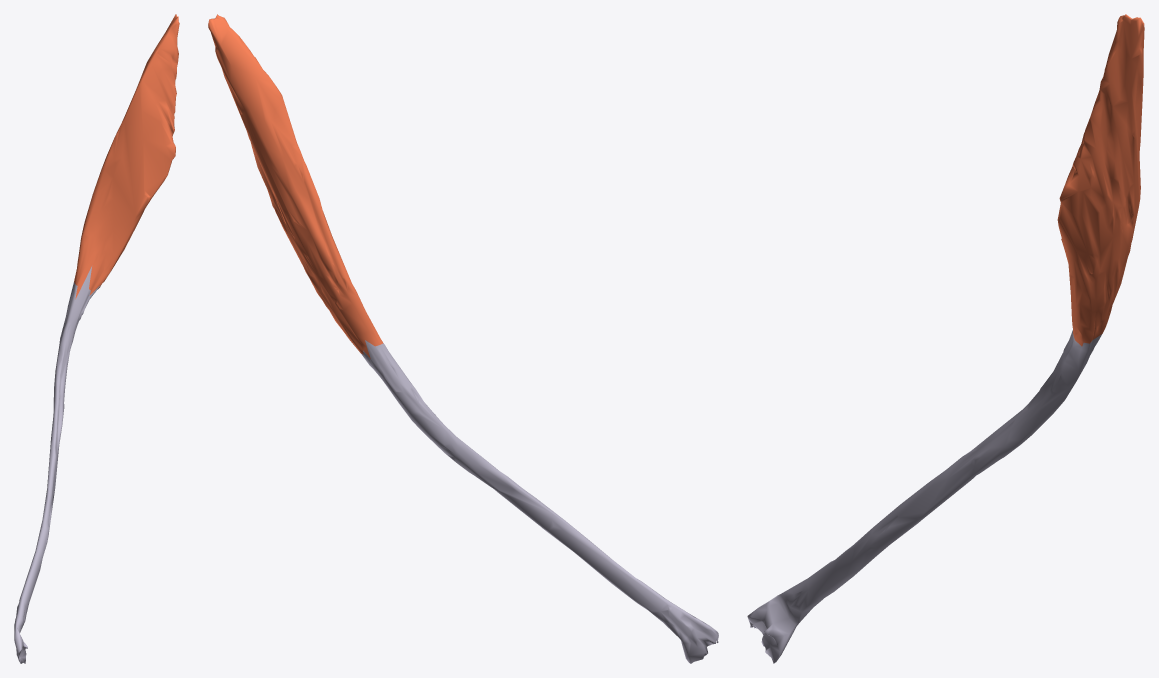
The model's file is Extensor_pollicis_brevis.r_Generated_Mesh_From_X3D.964.glb.
The picture shows the model from 3 angles, left to right: view 1: azimuth 30°, elevation 25°; view 2: azimuth 150°, elevation 25°; view 3: azimuth 270°, elevation 25°; orthographic projection. The views are drawn at different scales.
Parts seen in each view (by area): view 1: Extensor_pollicis_brevis.r_Generated_Mesh_From_X3D.964; view 2: Extensor_pollicis_brevis.r_Generated_Mesh_From_X3D.964; view 3: Extensor_pollicis_brevis.r_Generated_Mesh_From_X3D.964.
Boxes of the visible parts, left/top/right/bottom form: Extensor_pollicis_brevis.r_Generated_Mesh_From_X3D.964: left=14, top=14, right=179, bottom=663; Extensor_pollicis_brevis.r_Generated_Mesh_From_X3D.964: left=208, top=14, right=718, bottom=663; Extensor_pollicis_brevis.r_Generated_Mesh_From_X3D.964: left=747, top=14, right=1144, bottom=663.
Bounding box in the file's own units: 0.079 × 0.1404 × 0.0586.
